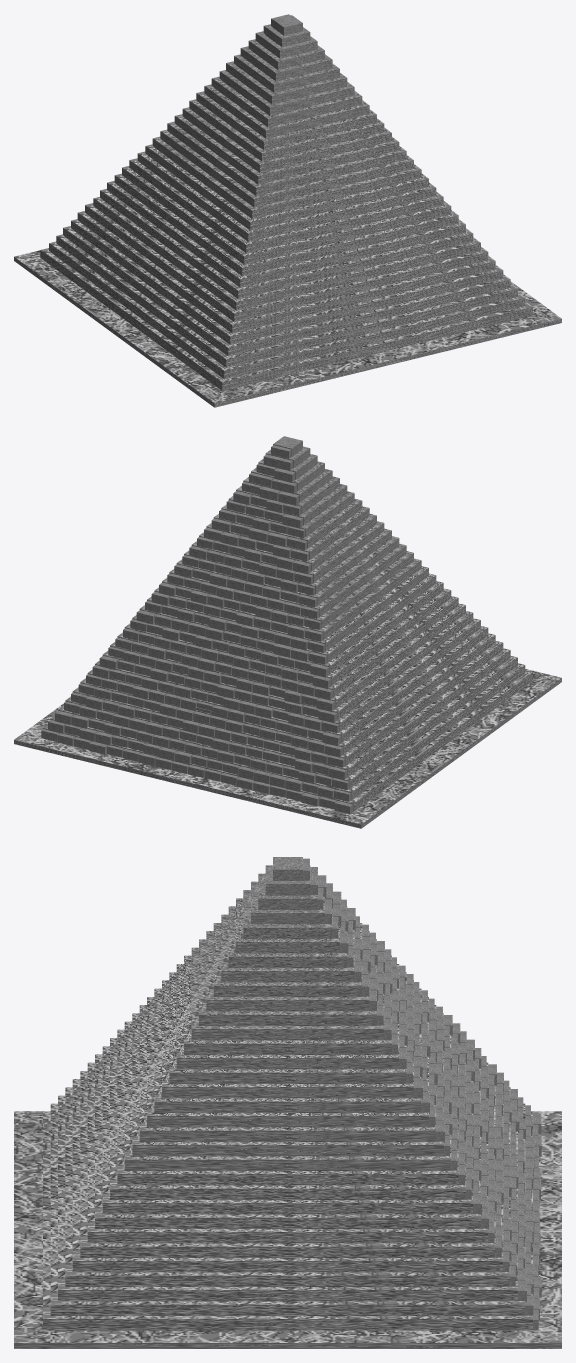
3 renders of one model, top to bottom at view 1: azimuth 30°, elevation 25°; view 2: azimuth 150°, elevation 25°; view 3: azimuth 270°, elevation 25°, orthographic. The views are drawn at different scales.
Parts seen in each view (by area): view 1: Cube, Cube.001, Cube.021, Cube.041, Cube.060, Cube.078, Cube.096, Cube.113, Cube.130, Cube.146, Cube.161, Cube.176 (+20 smaller); view 2: Cube, Cube.021, Cube.001, Cube.041, Cube.060, Cube.078, Cube.096, Cube.113, Cube.130, Cube.146, Cube.161, Cube.176 (+17 smaller); view 3: Cube, Cube.001, Cube.021, Cube.041, Cube.060, Cube.078, Cube.096, Cube.113, Cube.130, Cube.146, Cube.161, Cube.176 (+21 smaller).
Part boxes in pixels (x1=…): Cube: x1=14, y1=250, x2=561, y2=407; Cube.001: x1=43, y1=250, x2=532, y2=390; Cube.021: x1=50, y1=242, x2=525, y2=379; Cube.041: x1=58, y1=235, x2=517, y2=367; Cube.060: x1=65, y1=227, x2=510, y2=356; Cube.078: x1=72, y1=220, x2=503, y2=344; Cube.096: x1=80, y1=213, x2=495, y2=333; Cube.113: x1=87, y1=205, x2=488, y2=321; Cube.130: x1=95, y1=198, x2=480, y2=310; Cube.146: x1=102, y1=190, x2=473, y2=299; Cube.161: x1=110, y1=183, x2=465, y2=287; Cube.176: x1=117, y1=175, x2=458, y2=276; Cube: x1=14, y1=669, x2=561, y2=828; Cube.021: x1=50, y1=663, x2=525, y2=800; Cube.001: x1=43, y1=670, x2=532, y2=811; Cube.041: x1=58, y1=656, x2=517, y2=788; Cube.060: x1=65, y1=648, x2=510, y2=777; Cube.078: x1=72, y1=641, x2=503, y2=765; Cube.096: x1=80, y1=633, x2=495, y2=754; Cube.113: x1=87, y1=626, x2=488, y2=743; Cube.130: x1=95, y1=618, x2=480, y2=731; Cube.146: x1=102, y1=611, x2=473, y2=720; Cube.161: x1=110, y1=603, x2=465, y2=708; Cube.176: x1=117, y1=596, x2=458, y2=697; Cube: x1=14, y1=1111, x2=561, y2=1348; Cube.001: x1=43, y1=1112, x2=532, y2=1330; Cube.021: x1=50, y1=1103, x2=525, y2=1315; Cube.041: x1=58, y1=1095, x2=517, y2=1301; Cube.060: x1=65, y1=1087, x2=510, y2=1286; Cube.078: x1=72, y1=1079, x2=503, y2=1272; Cube.096: x1=80, y1=1071, x2=495, y2=1257; Cube.113: x1=87, y1=1062, x2=488, y2=1243; Cube.130: x1=95, y1=1054, x2=480, y2=1228; Cube.146: x1=102, y1=1046, x2=473, y2=1214; Cube.161: x1=110, y1=1038, x2=465, y2=1199; Cube.176: x1=117, y1=1029, x2=458, y2=1185.
Bounding box in the file's own units: 1.88 × 1.4 × 1.88.
2 materials, 2 textured.
